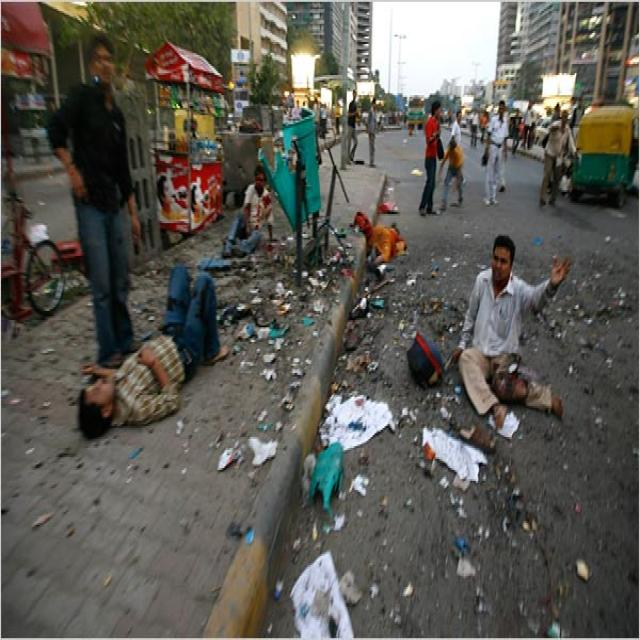garbage: (212, 118, 460, 640)
